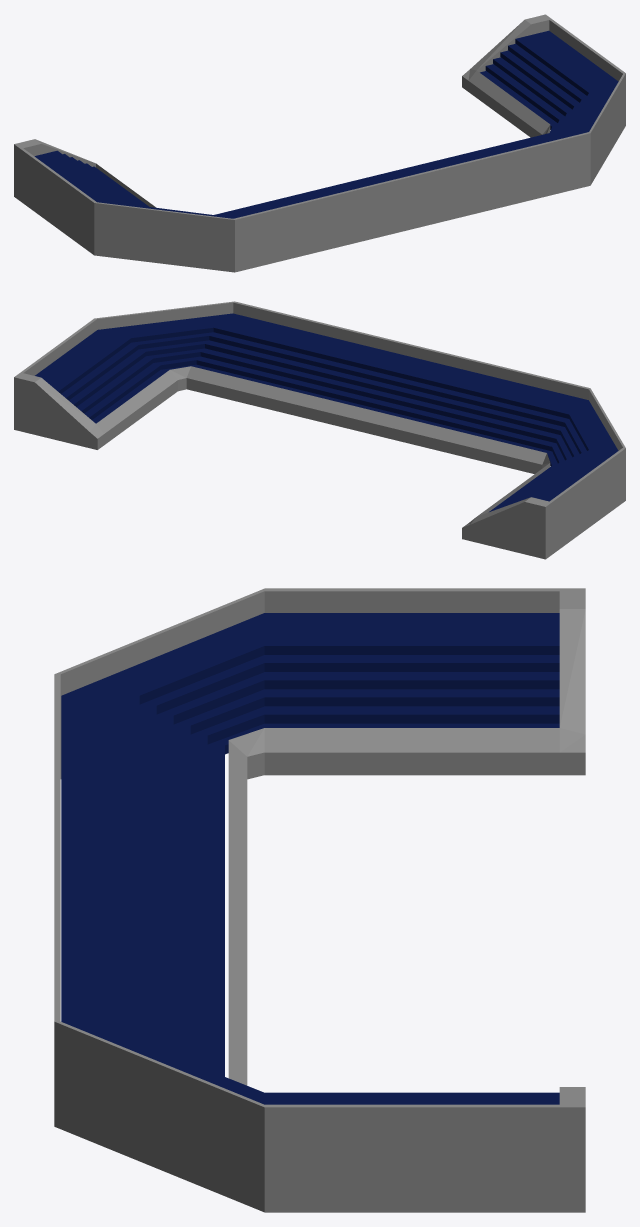
File: uzamis.obj
3 views of the same model, one above another, from view 1: azimuth 30°, elevation 25°; view 2: azimuth 150°, elevation 25°; view 3: azimuth 270°, elevation 25° (orthographic). The views are drawn at different scales.
Visible parts, largest first — view 1: StadiumSits3_Cube.001; view 2: StadiumSits3_Cube.001; view 3: StadiumSits3_Cube.001.
Part boxes in pixels (left/top/right/bottom): StadiumSits3_Cube.001: left=14, top=14, right=625, bottom=272; StadiumSits3_Cube.001: left=14, top=301, right=625, bottom=559; StadiumSits3_Cube.001: left=54, top=588, right=585, bottom=1212.
Size of the model in its own units: 77.08 by 7.28 by 33.37.
